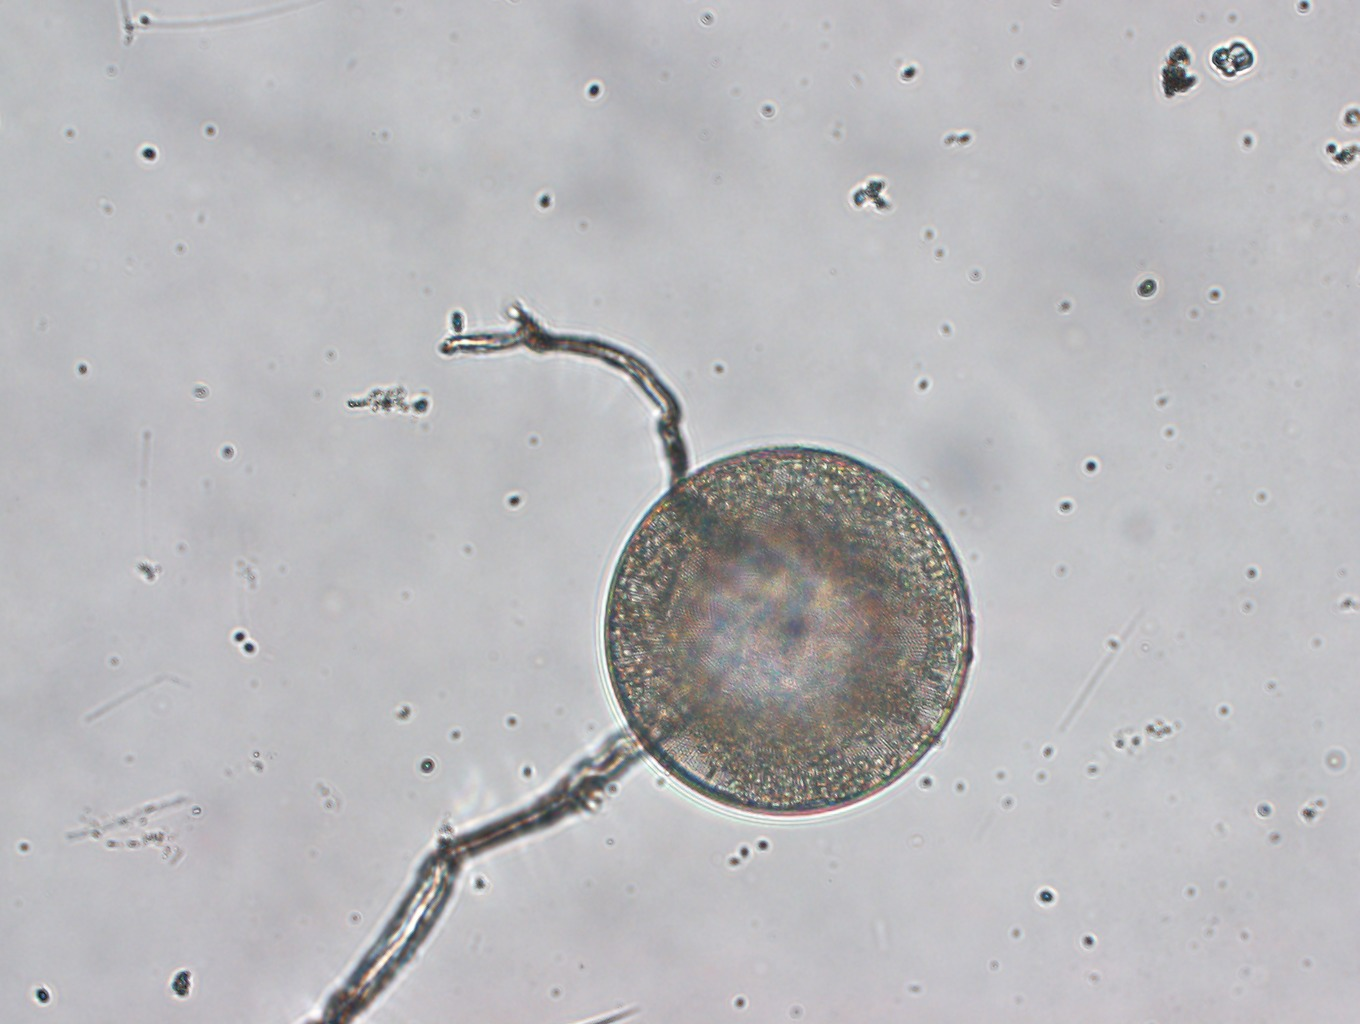coscinodiscus: (597, 440, 980, 823)
